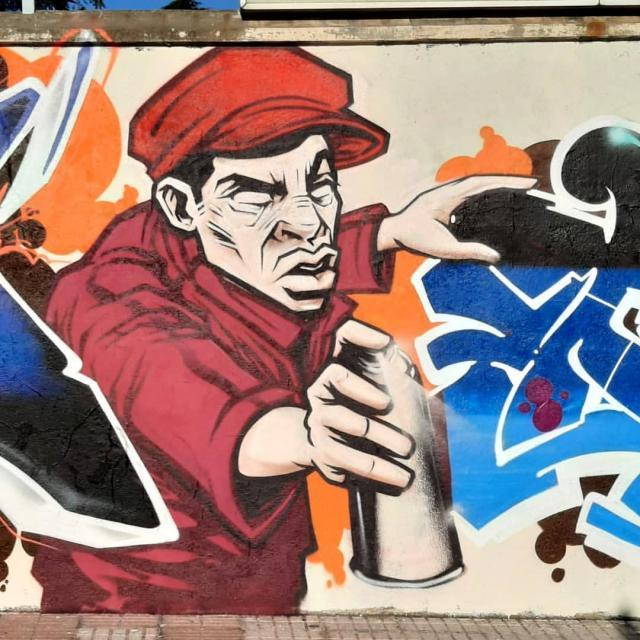-: (4, 33, 548, 608)
